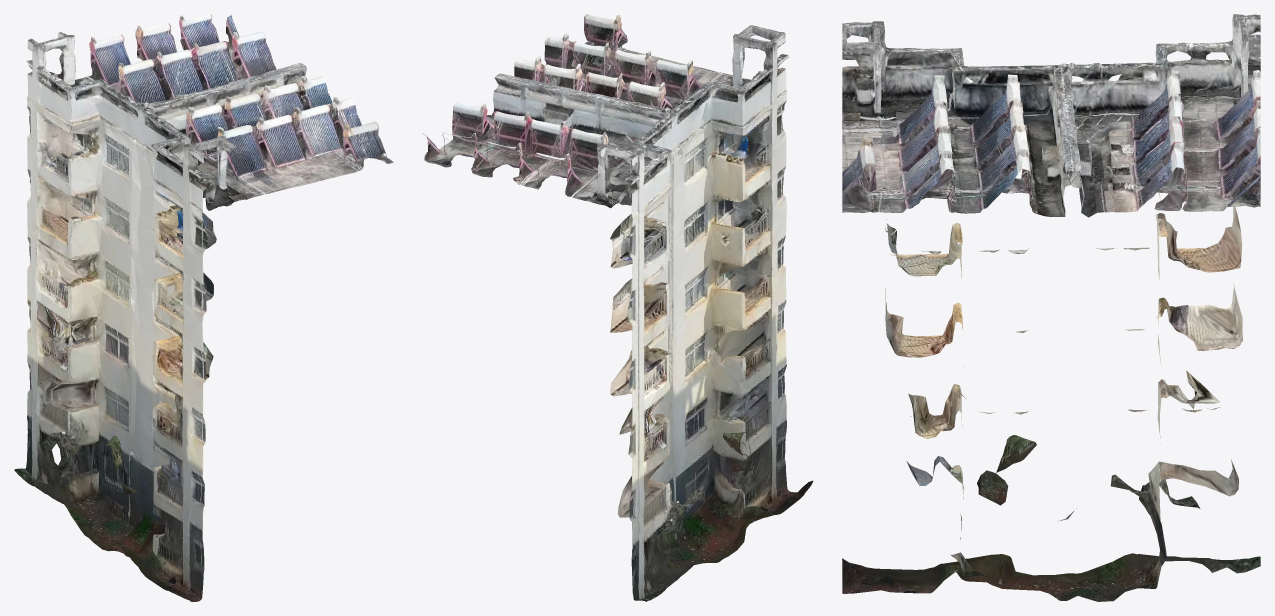
File: BlockBBYX_L20_42.glb
3 views of the same model, side by side, from view 1: azimuth 30°, elevation 25°; view 2: azimuth 150°, elevation 25°; view 3: azimuth 270°, elevation 25° (orthographic). The views are drawn at different scales.
Visible parts, largest first — view 1: rtc; view 2: rtc; view 3: rtc.
Boxes of the visible parts, <box> form: rtc: <box>14,14,393,601</box>; rtc: <box>422,14,813,601</box>; rtc: <box>842,14,1260,601</box>.
Bounding box in the file's own units: 10.84 × 21.24 × 14.02.
Materials: 5 (5 with a texture image).
